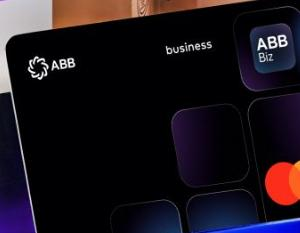ABB: (25, 54, 49, 81)
